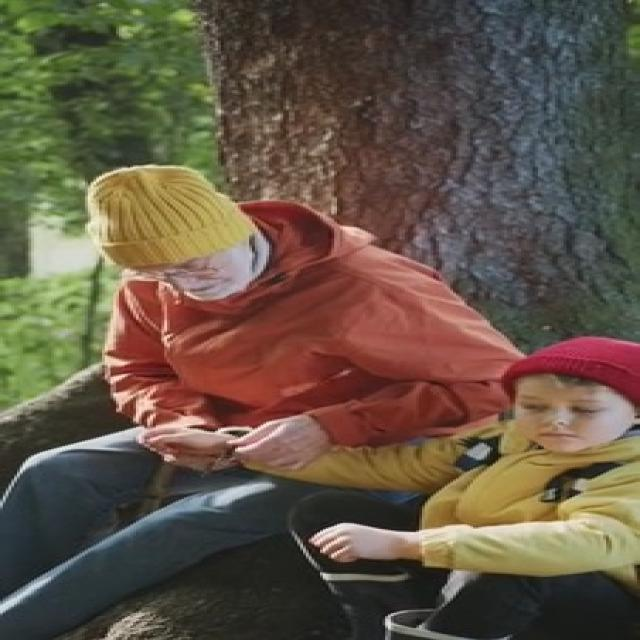Jacket_Wearer: (55, 241, 510, 449)
Person: (62, 146, 529, 578)
